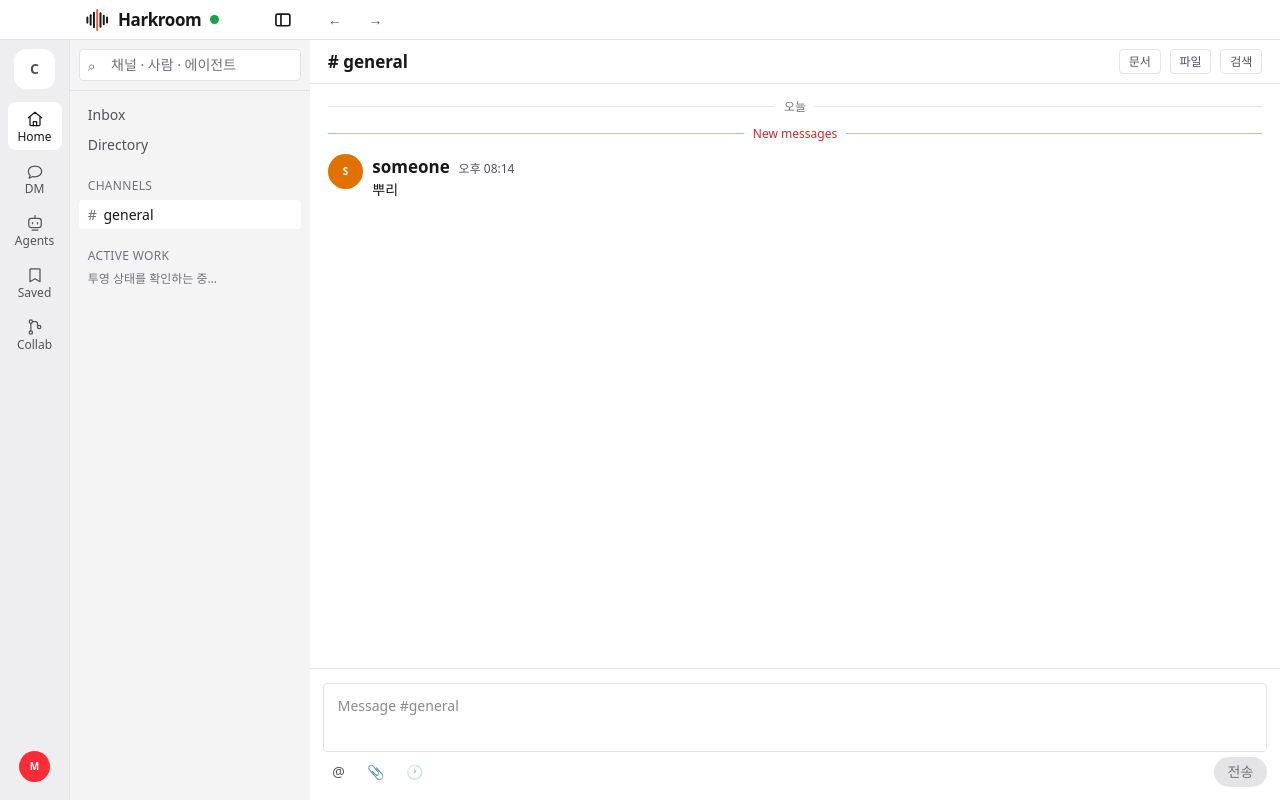
인박스는 자리다 — 모달이 아니다 (#488 C2) › 인박스에서 답글을 눌러 스레드로 들어가도 인박스가 닫히지 않는다
This screenshot has width=1280, height=800.
Click the button "Inbox" at (190, 115), box [79, 100, 301, 130]
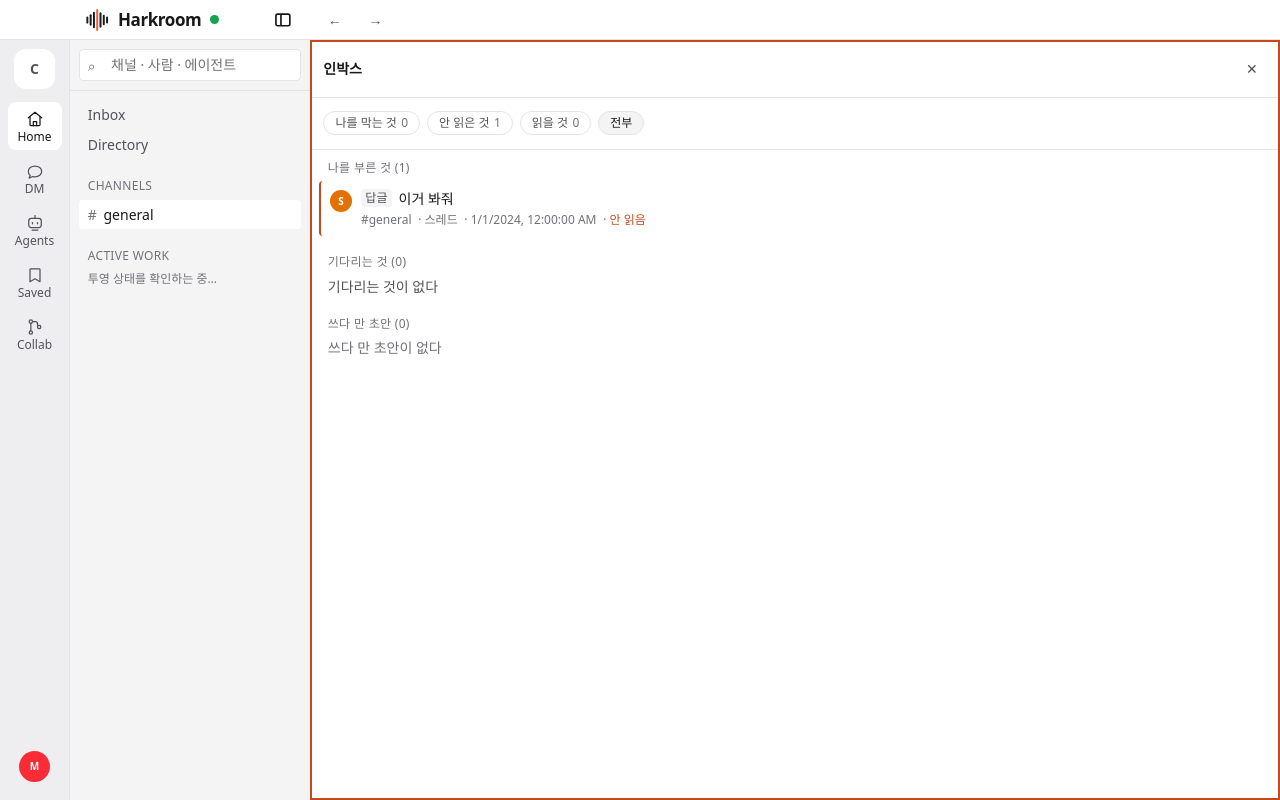
Check: the button with test id "inbox-entry-7" is shown
Click the button with test id "inbox-entry-7" at (376, 198), box [319, 181, 1271, 236]
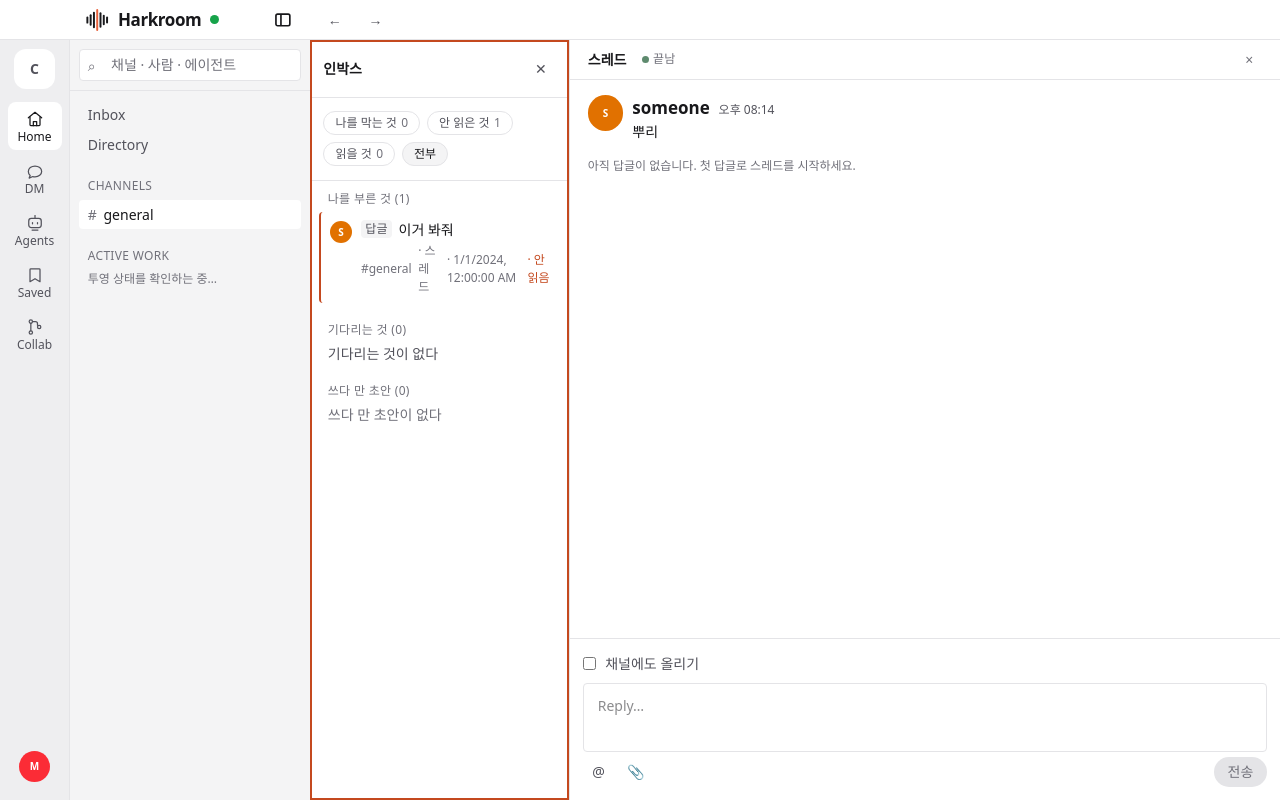
Check: the element with test id "inbox-pane" is shown, box [310, 40, 569, 799]
Check: the element with test id "thread-pane" is shown, box [569, 40, 1279, 799]
